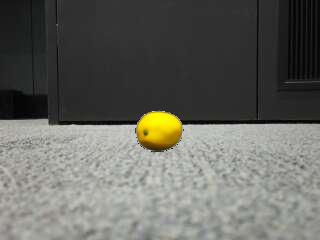lemon: (137, 113, 182, 151)
